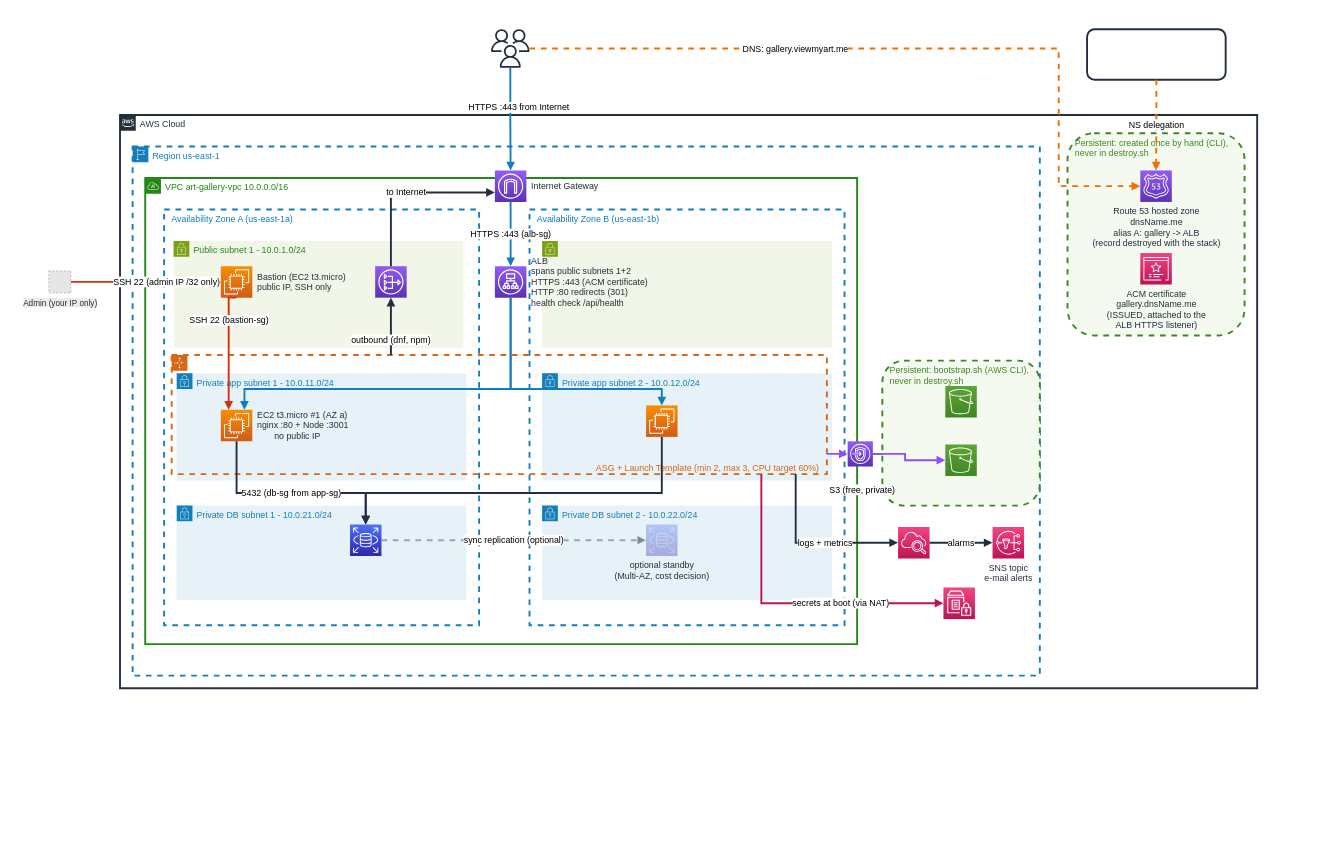
The diagram is 1339 pixels wide and 866 high, and some of its shapes have lost their labels. Grey dashed boxes stand in for pictures. Each missing label, with the centre of its shape:
"CloudWatch dashboard, 4 log groups, 3 alarms" belongs at (x=913, y=542).
"Customers (browser)" belongs at (x=510, y=48).
"EC2 t3.micro #2 (AZ b) nginx :80 + Node :3001 no public IP" belongs at (x=661, y=421).
"Namecheap (registrar) NameDnsme uses custom DNS: the 4 Route 53 name servers" belongs at (x=1156, y=54).
"NAT Gateway (Elastic IP)" belongs at (x=390, y=281).
"Public subnet 2 - 10.0.2.0/24" belongs at (x=687, y=294).
"RDS PostgreSQL 16 single-AZ, encrypted, backups 7 days" belongs at (x=365, y=540).
"S3 data bucket artifacts/ artworks/ seed/" belongs at (x=960, y=460).
"S3 endpoint" belongs at (x=859, y=453).
"S3 state bucket remote state + locking" belongs at (x=960, y=401).
"SSM Parameter Store 3 SecureStrings: DB password, JWT secret, admin password" belongs at (x=959, y=603).
